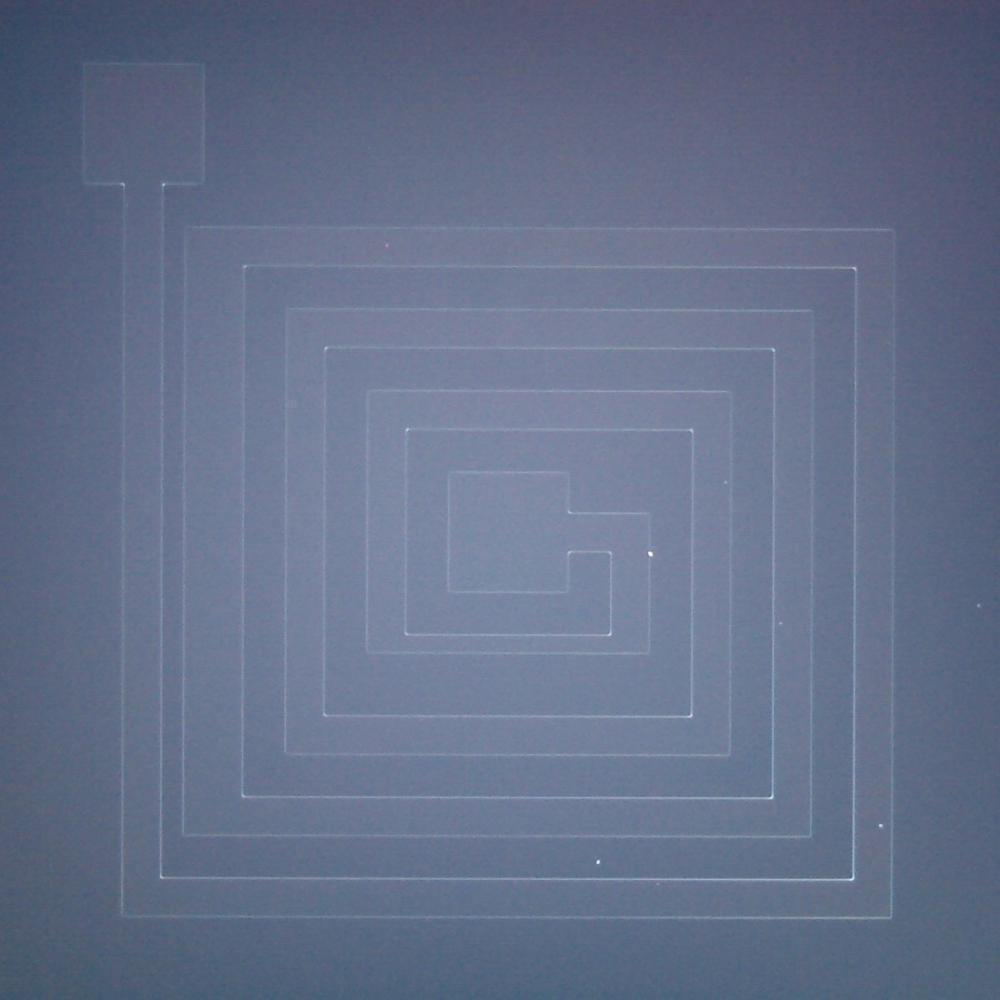dot: (870, 814, 894, 838), (587, 852, 612, 872), (638, 544, 662, 564)
fat circuit: (174, 217, 264, 851)
thin circuit: (357, 613, 668, 670)
